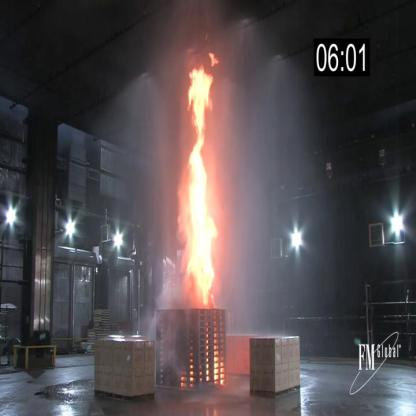fire: (181, 44, 223, 310)
